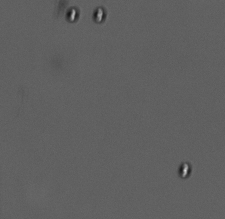Dead Cell: (64, 6, 81, 24), (91, 6, 106, 24), (177, 160, 191, 179)
